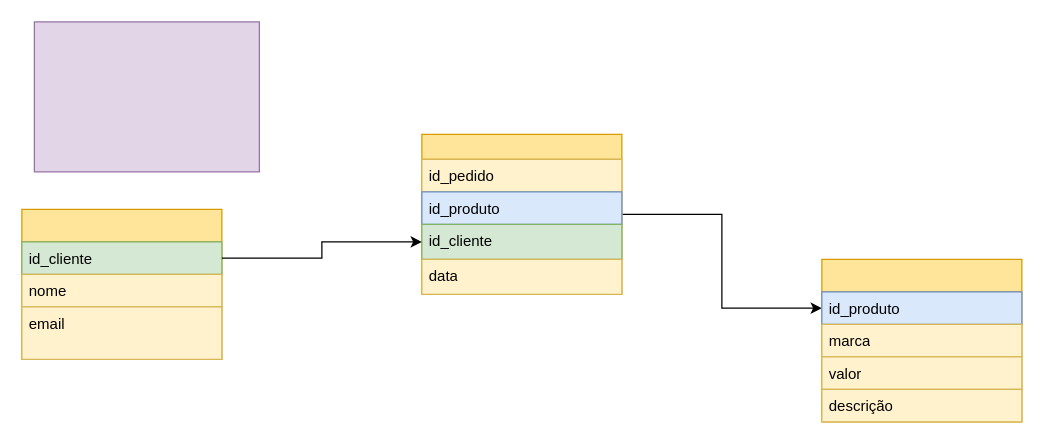
Image size: 1044x448. Some labels were removed from this diagram. The shapes that lost their labels are listed below. From the top down, each one's box as (x1, y1, x2, y2) in pixels, then its label:
(33, 21, 259, 172): Projeto Loja Diagrama UML Desenvolvido por: Henrique Fitipaldi Marques Pinheiro
(421, 133, 622, 294): pedidos
(21, 208, 222, 359): clientes
(821, 258, 1022, 422): produtos
